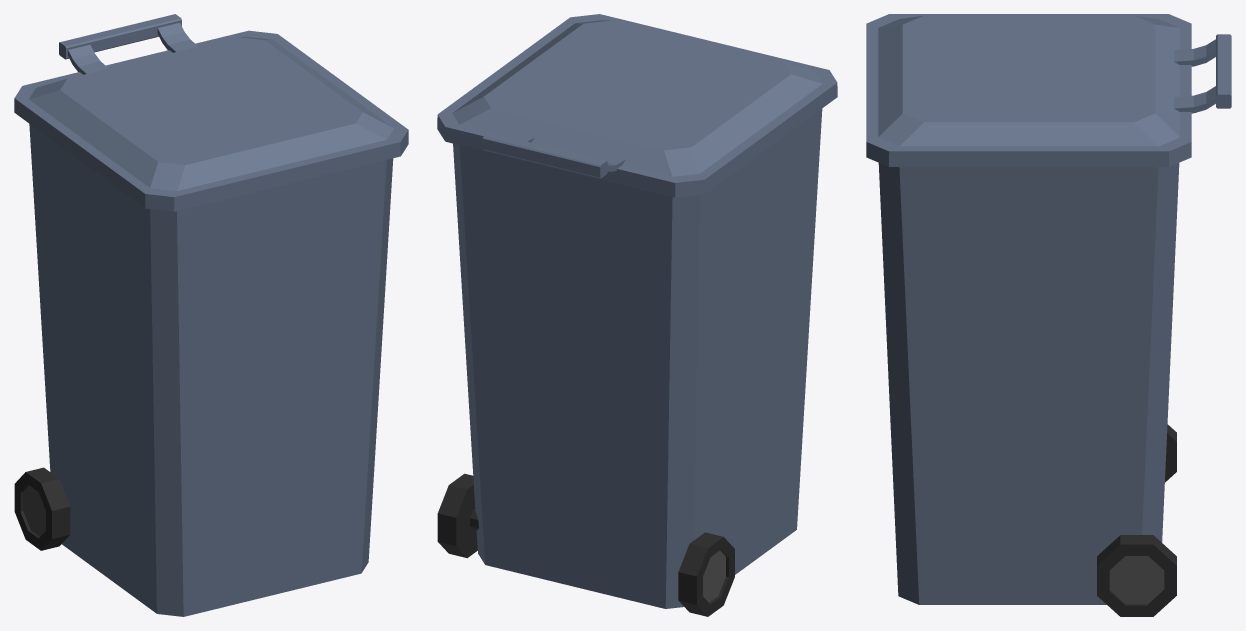
File: Trash_04.fbx
The picture shows the model from 3 angles, left to right: view 1: azimuth 30°, elevation 25°; view 2: azimuth 150°, elevation 25°; view 3: azimuth 270°, elevation 25°; orthographic projection. The views are drawn at different scales.
Visible parts, largest first — view 1: Trash_04; view 2: Trash_04; view 3: Trash_04.
Boxes of the visible parts, x1,y1,x2,y2 form: Trash_04: (14, 14, 408, 616); Trash_04: (437, 14, 837, 616); Trash_04: (866, 14, 1231, 616).
Bounding box in the file's own units: 71.73 × 118 × 80.53.
